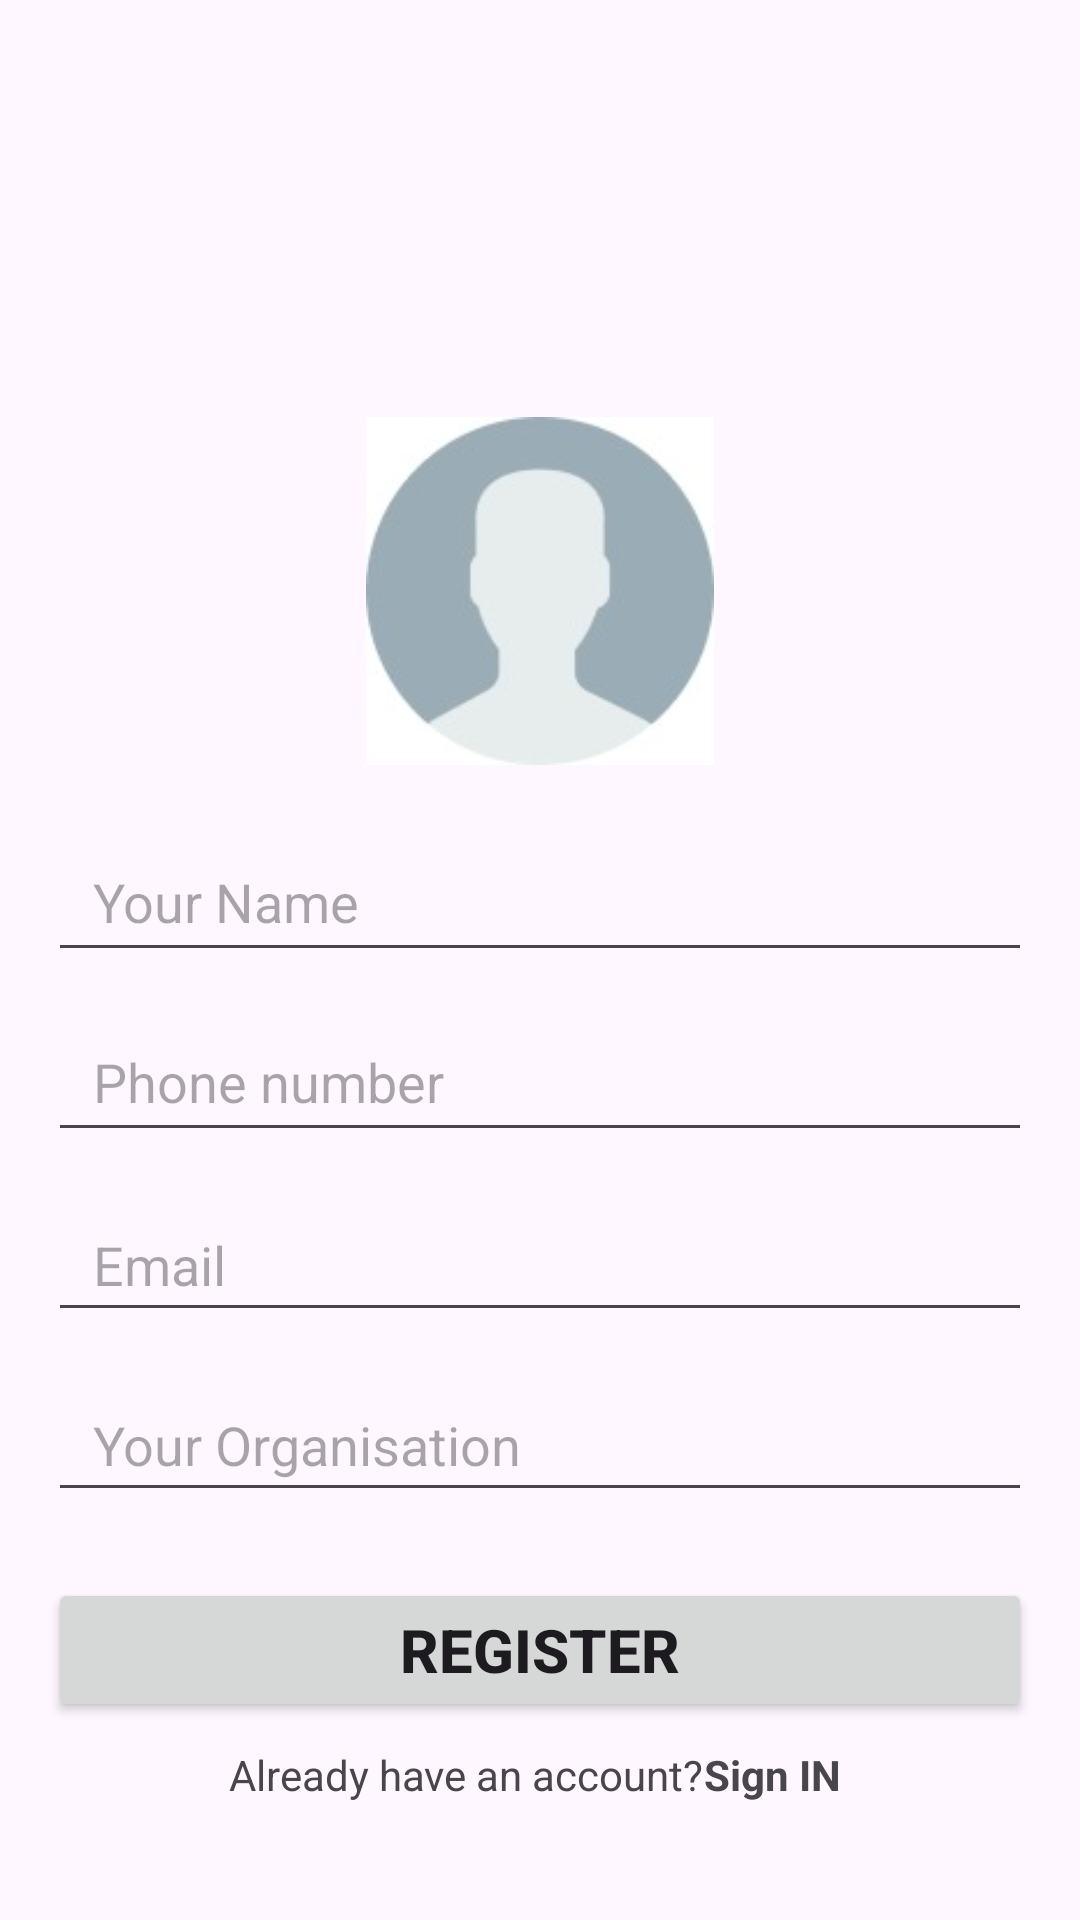

Icon bounding boxes for this 1080 × 1920 phone screenshot, format (left=x1, top=y1, right=x2, bottom=y2):
User Profile Picture: (left=366, top=417, right=714, bottom=760)
